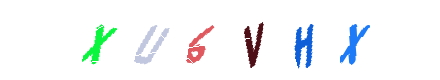6: (164, 0, 244, 80)
H: (213, 0, 293, 80)
U: (147, 0, 227, 80)
V: (179, 0, 259, 80)
X: (58, 0, 138, 80), (287, 0, 367, 80)
